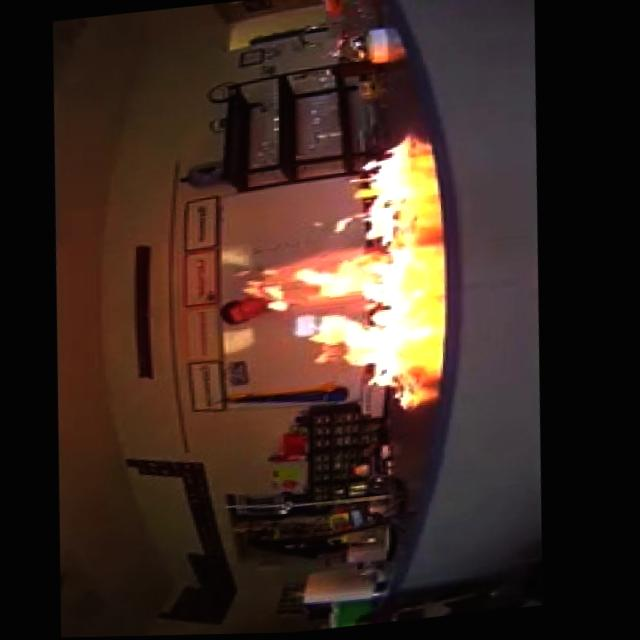helmet: (262, 125, 442, 427)
